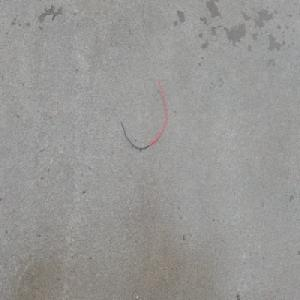Wire: (117, 74, 168, 150)
